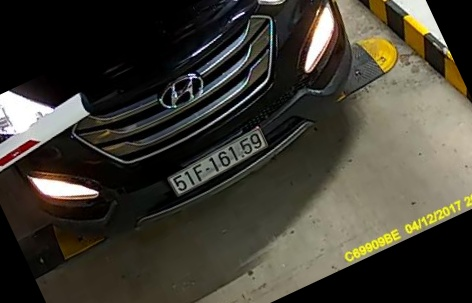plate: (167, 124, 270, 195)
